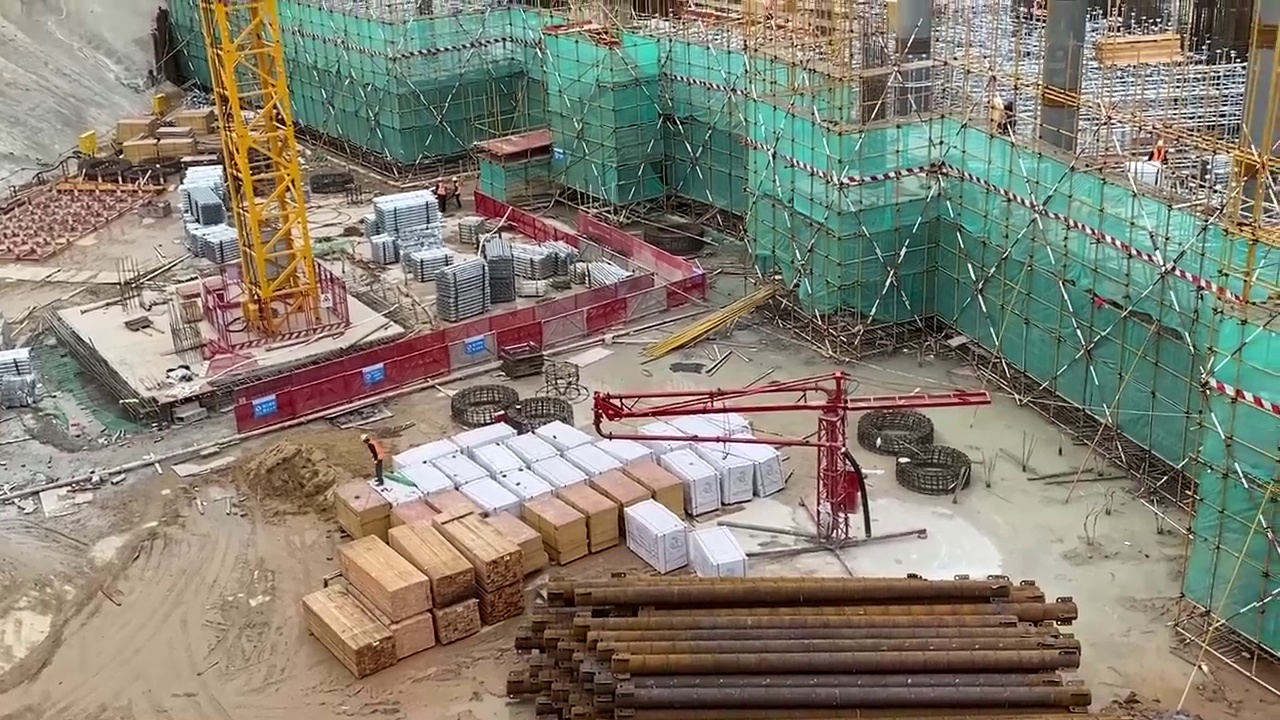board: (528, 459, 690, 576), (331, 478, 389, 532)
fence: (335, 343, 433, 402), (237, 373, 357, 418), (644, 248, 709, 316), (570, 284, 644, 336), (498, 306, 570, 348), (428, 324, 498, 367)
person: (357, 431, 384, 489), (1143, 135, 1169, 170), (435, 176, 447, 214), (450, 176, 463, 209)
rebar: (525, 577, 1112, 720)
scaffold: (433, 258, 491, 318), (483, 233, 514, 301), (191, 218, 239, 260), (378, 194, 436, 226), (509, 238, 554, 279), (574, 256, 620, 288), (188, 188, 226, 222), (368, 234, 400, 263), (188, 166, 221, 187)
vest: (369, 442, 383, 459)
wood: (305, 503, 521, 681)
